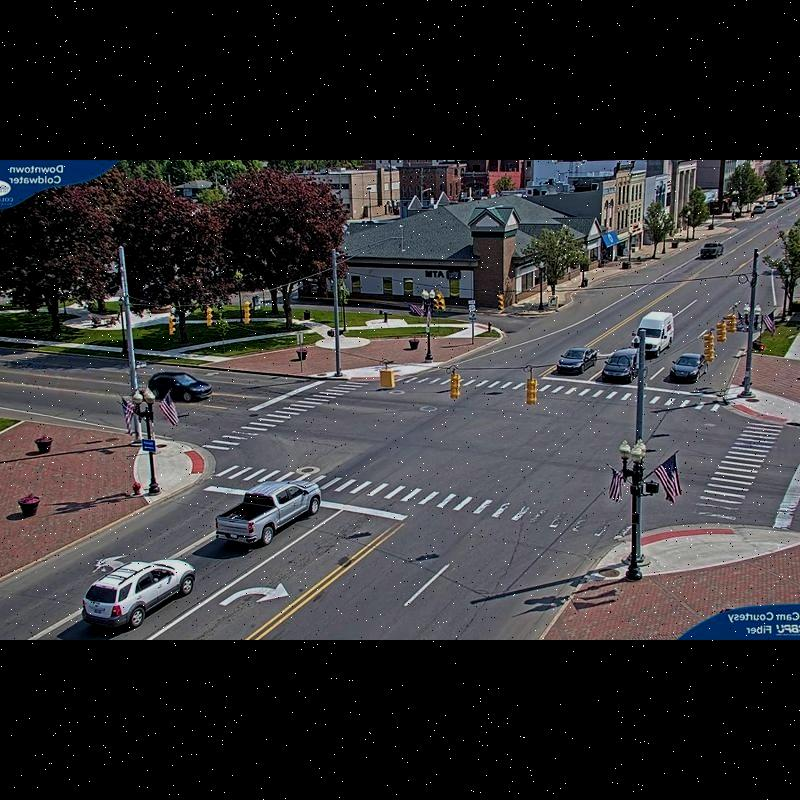car: (81, 552, 195, 632), (212, 477, 322, 550), (146, 369, 212, 406), (631, 312, 674, 355), (601, 350, 642, 383), (554, 346, 598, 376), (669, 353, 708, 384), (699, 240, 725, 260), (753, 203, 765, 215), (768, 198, 778, 208)
